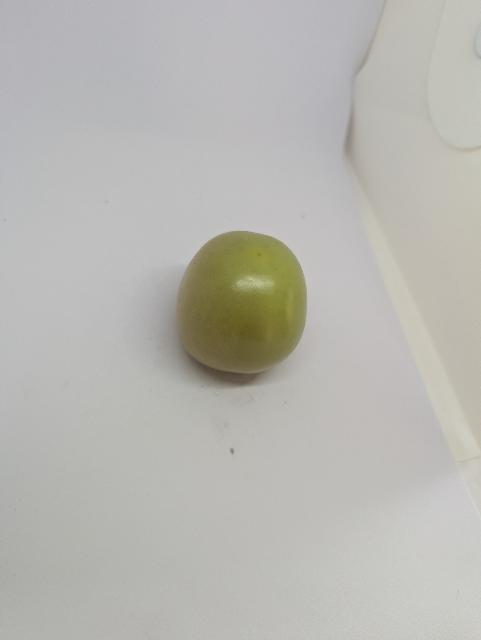green: (165, 208, 324, 395)
